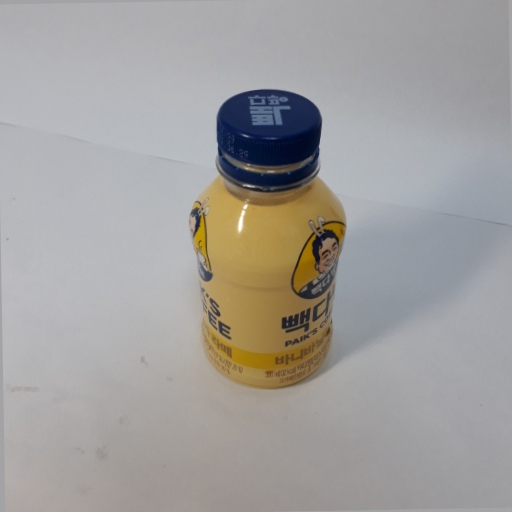Plastic_0: (184, 90, 349, 392)
